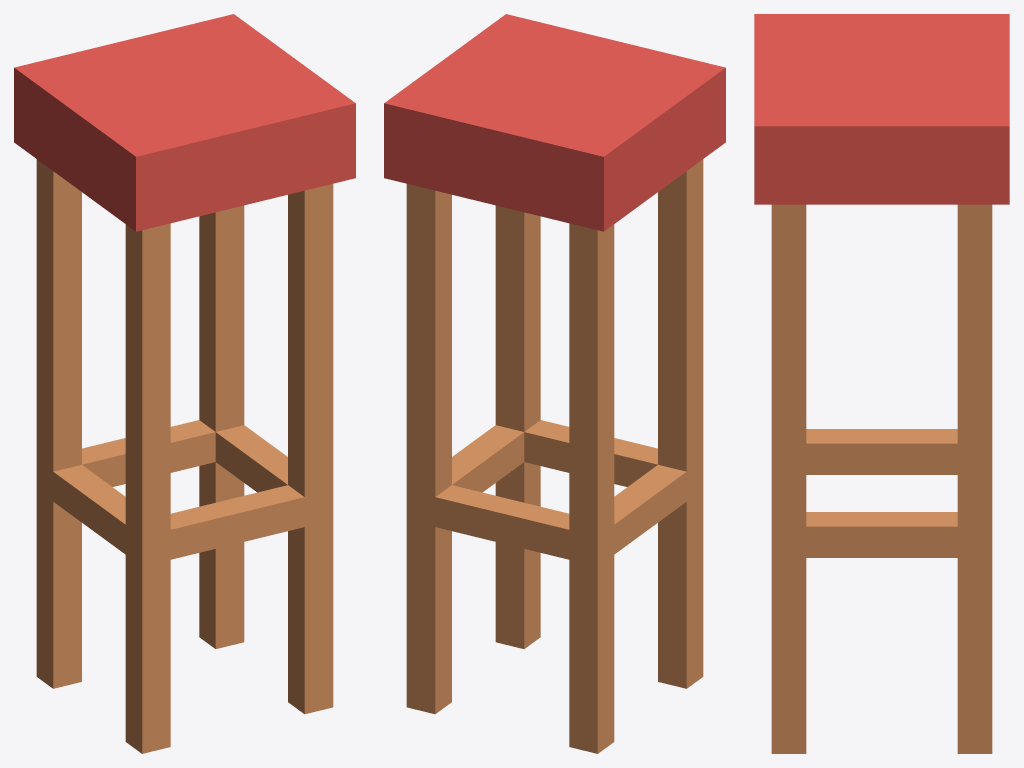
File: Furniture_Stool_Bar_Square.glb
3 renders of one model, left to right at view 1: azimuth 30°, elevation 25°; view 2: azimuth 150°, elevation 25°; view 3: azimuth 270°, elevation 25°, orthographic. The views are drawn at different scales.
Parts seen in each view (by area): view 1: stoolBarSquare; view 2: stoolBarSquare; view 3: stoolBarSquare.
Boxes of the visible parts, <box> form: stoolBarSquare: <box>14,14,355,753</box>; stoolBarSquare: <box>384,14,725,753</box>; stoolBarSquare: <box>754,14,1009,753</box>.
Size of the model in its own units: 0.1535 by 0.405 by 0.1476.
